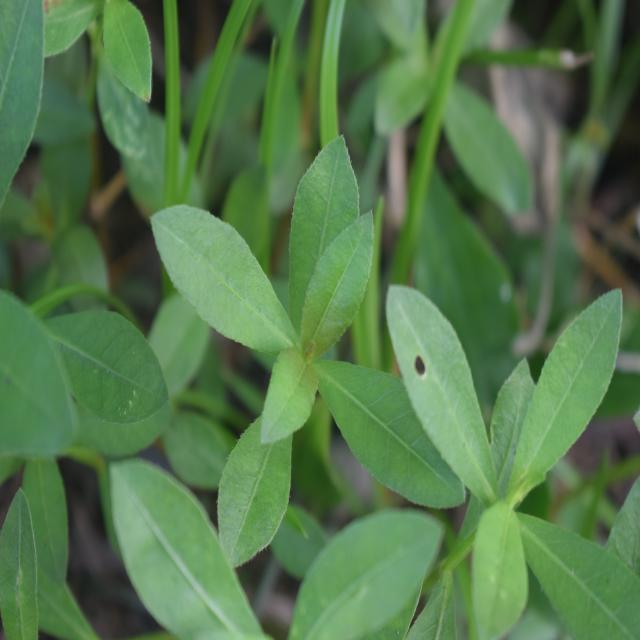Alligatorweed: (152, 144, 443, 544), (371, 217, 635, 635)
